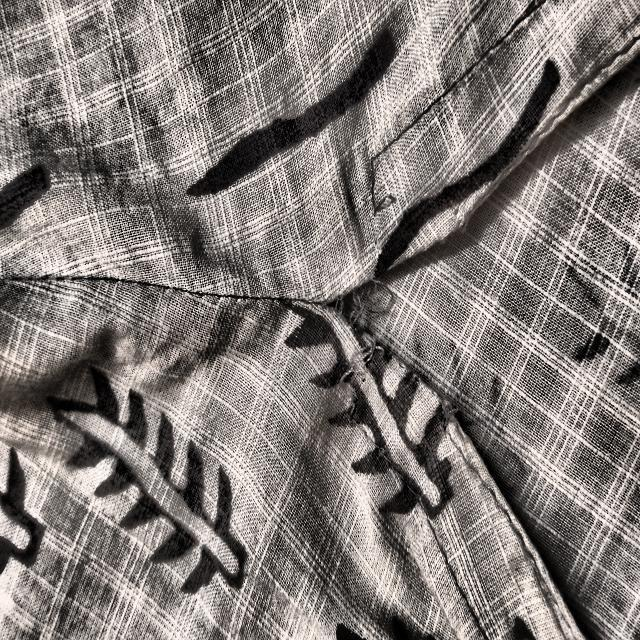gray stitch: (310, 265, 458, 545), (344, 129, 420, 248)
